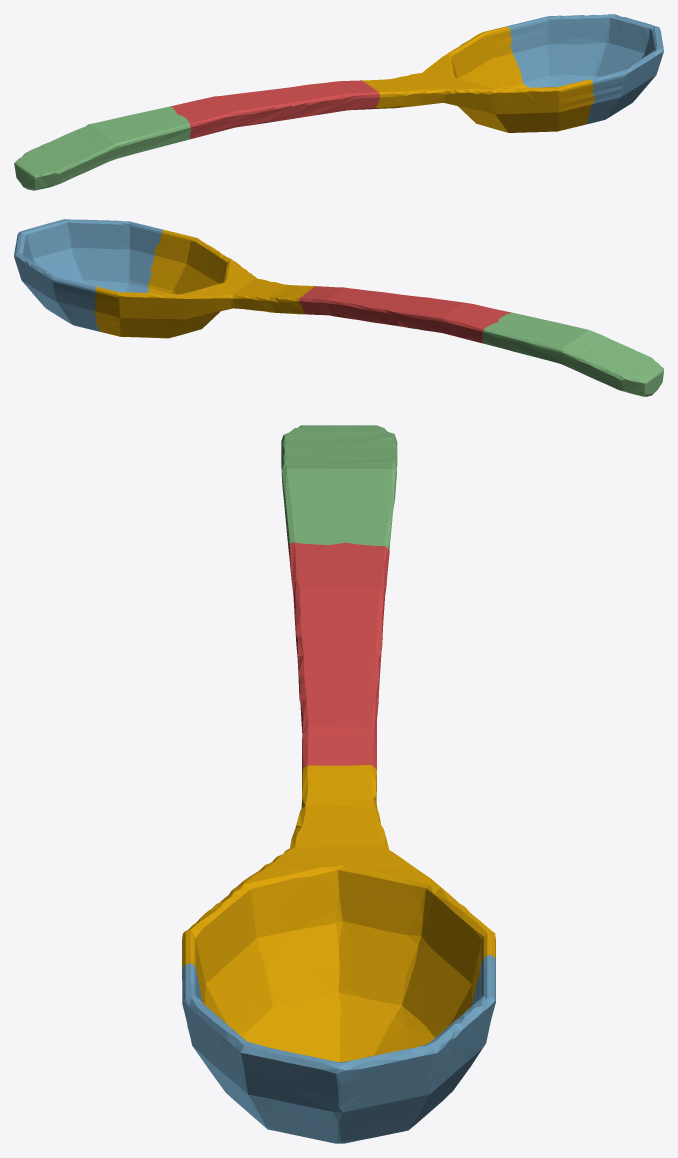
File: mode_3_4pcs.glb
3 renders of one model, top to bottom at view 1: azimuth 30°, elevation 25°; view 2: azimuth 150°, elevation 25°; view 3: azimuth 270°, elevation 25°, orthographic. The views are drawn at different scales.
Parts seen in each view (by area): view 1: piece_0.obj, piece_2.obj, piece_3.obj, piece_1.obj; view 2: piece_0.obj, piece_2.obj, piece_3.obj, piece_1.obj; view 3: piece_0.obj, piece_2.obj, piece_1.obj, piece_3.obj.
Boxes of the visible parts, x1=… form: piece_0.obj: x1=362, y1=26, x2=594, y2=132; piece_2.obj: x1=506, y1=14, x2=663, y2=124; piece_3.obj: x1=14, y1=106, x2=191, y2=190; piece_1.obj: x1=171, y1=80, x2=379, y2=139; piece_0.obj: x1=94, y1=229, x2=314, y2=338; piece_2.obj: x1=14, y1=219, x2=162, y2=331; piece_3.obj: x1=482, y1=313, x2=663, y2=396; piece_1.obj: x1=298, y1=286, x2=512, y2=343; piece_0.obj: x1=182, y1=765, x2=495, y2=1061; piece_2.obj: x1=182, y1=955, x2=495, y2=1143; piece_1.obj: x1=288, y1=542, x2=389, y2=772; piece_3.obj: x1=281, y1=425, x2=397, y2=550.
Bounding box in the file's own units: 1 × 0.1529 × 0.2137.
